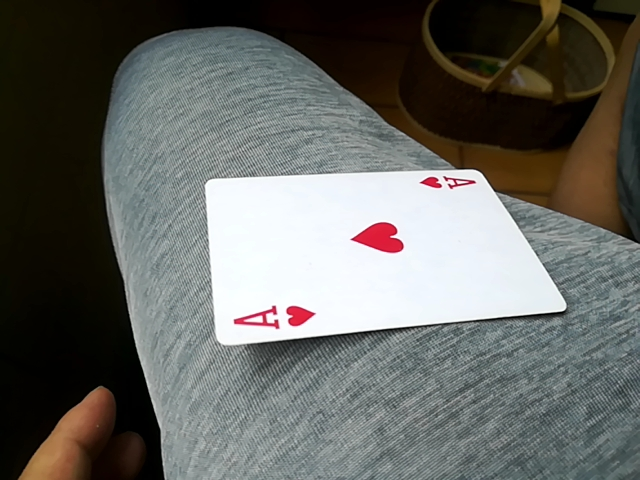hx a: (204, 165, 566, 345)
